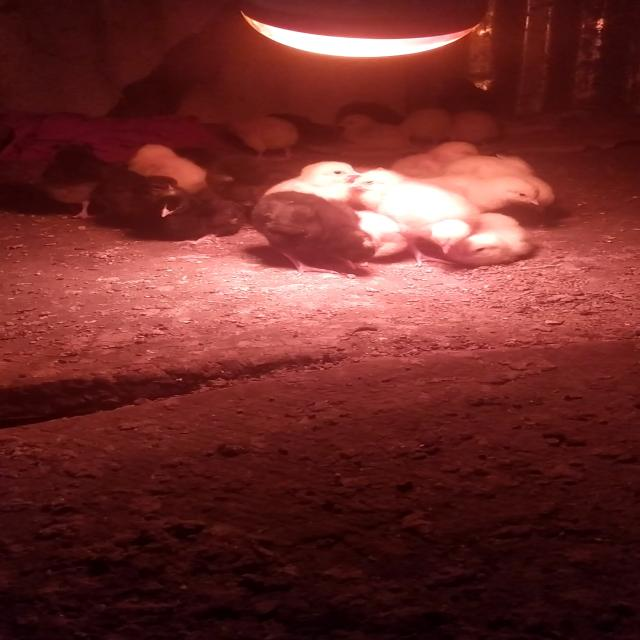chick: (248, 191, 376, 280), (373, 195, 483, 268), (255, 160, 362, 223), (41, 141, 127, 219), (94, 170, 192, 225), (440, 213, 535, 268), (139, 193, 246, 240), (342, 170, 456, 214), (127, 144, 209, 198), (431, 174, 543, 212), (341, 209, 411, 262), (391, 140, 478, 181), (228, 118, 302, 161), (434, 109, 504, 150), (333, 114, 412, 148), (442, 153, 538, 177), (395, 108, 448, 147)
